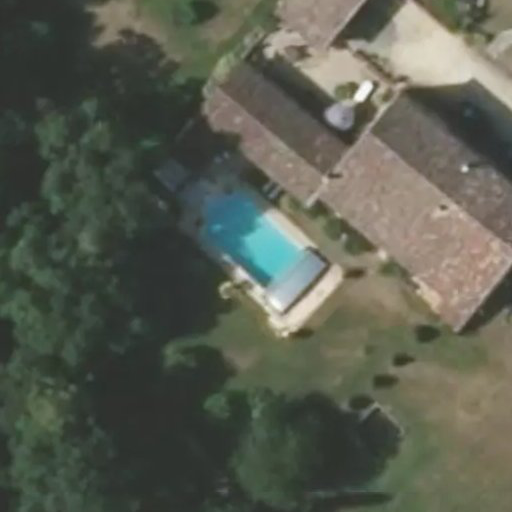pool: (190, 225, 320, 258)
